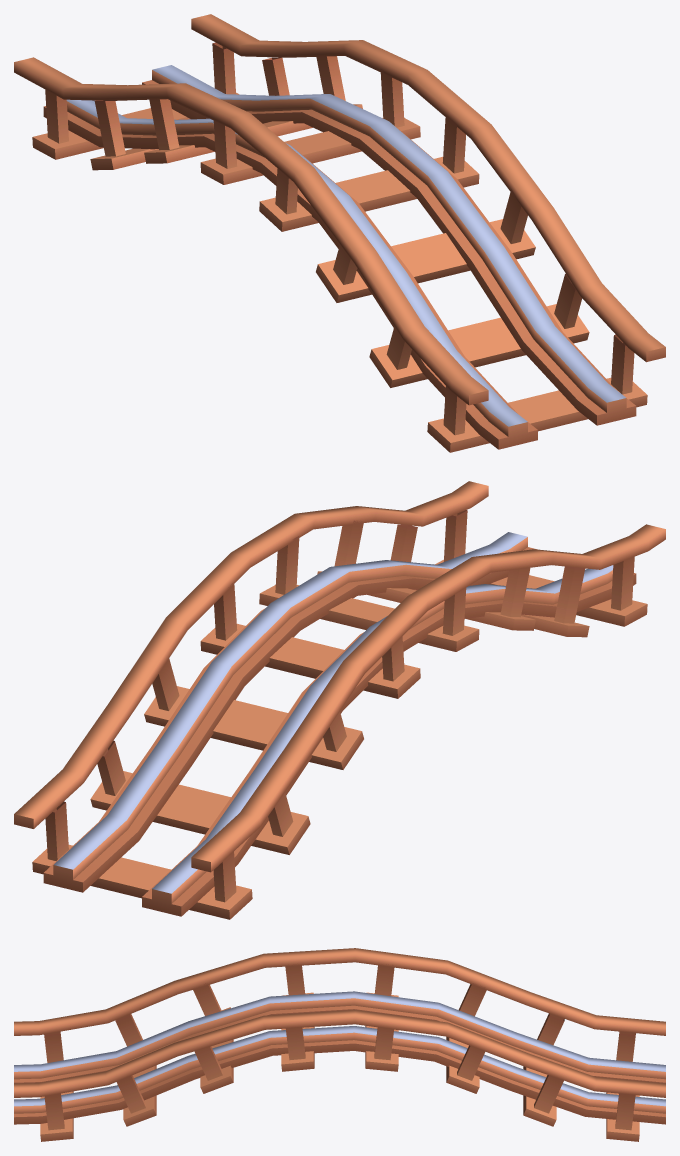
Rendered from coaster-wood-straight-bump-up.glb.
3 views of the same model, one above another, from view 1: azimuth 30°, elevation 25°; view 2: azimuth 150°, elevation 25°; view 3: azimuth 270°, elevation 25° (orthographic). The views are drawn at different scales.
Parts seen in each view (by area): view 1: coaster-wood-straight-bump-up; view 2: coaster-wood-straight-bump-up; view 3: coaster-wood-straight-bump-up.
Part boxes in pixels (x1,y1,x2,y2): coaster-wood-straight-bump-up: (14, 14, 665, 452); coaster-wood-straight-bump-up: (14, 481, 665, 919); coaster-wood-straight-bump-up: (14, 948, 665, 1141).
Bounding box in the file's own units: 1 × 0.8457 × 4.
1 material, 1 textured.
